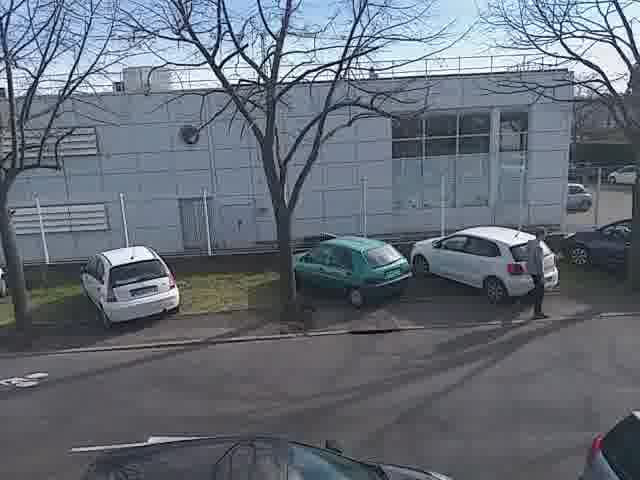persona: (506, 230, 557, 320)
